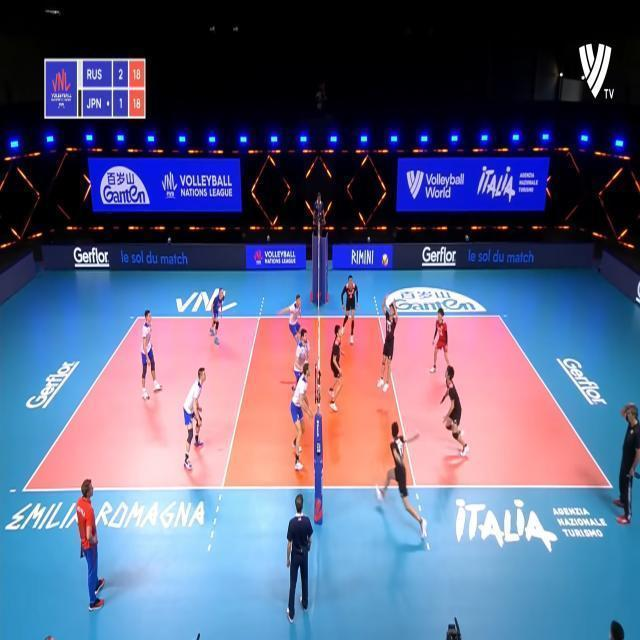volleyball: (382, 253, 388, 266)
